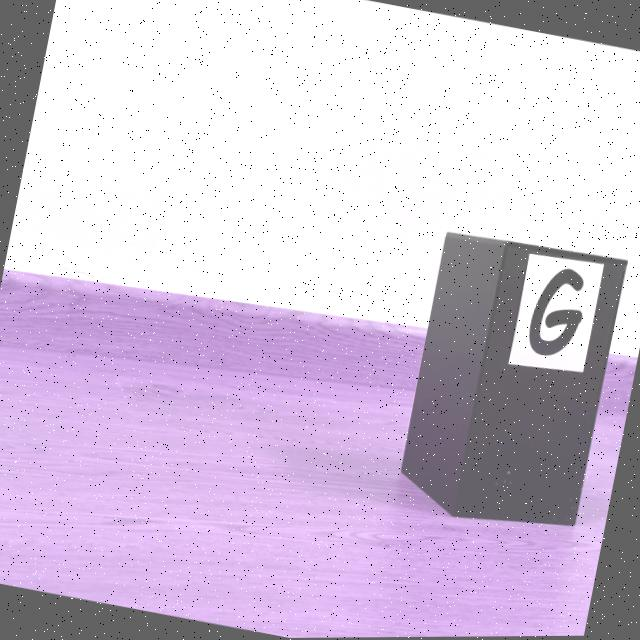G: (529, 269, 584, 357)
